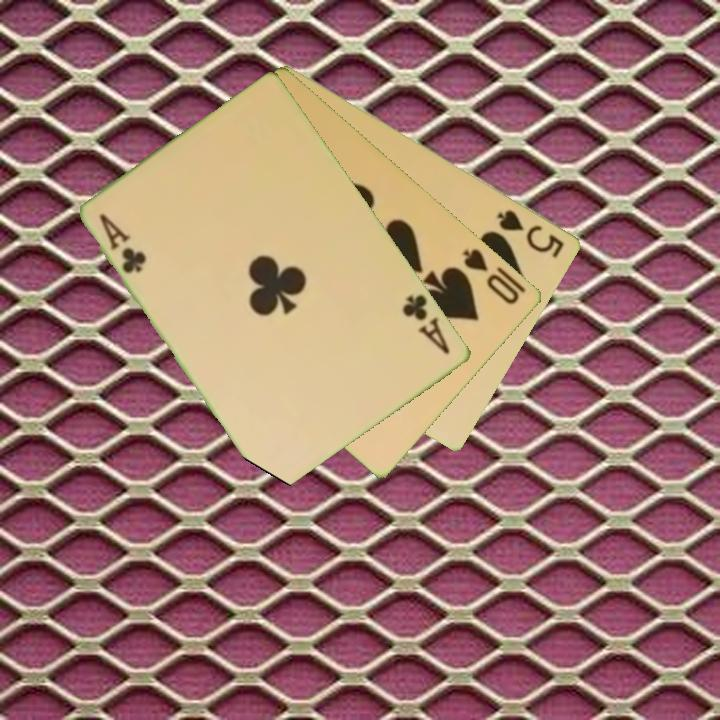10s: (460, 244, 523, 308)
5s: (494, 206, 568, 261)
Ac: (96, 210, 151, 277), (399, 291, 453, 358)
